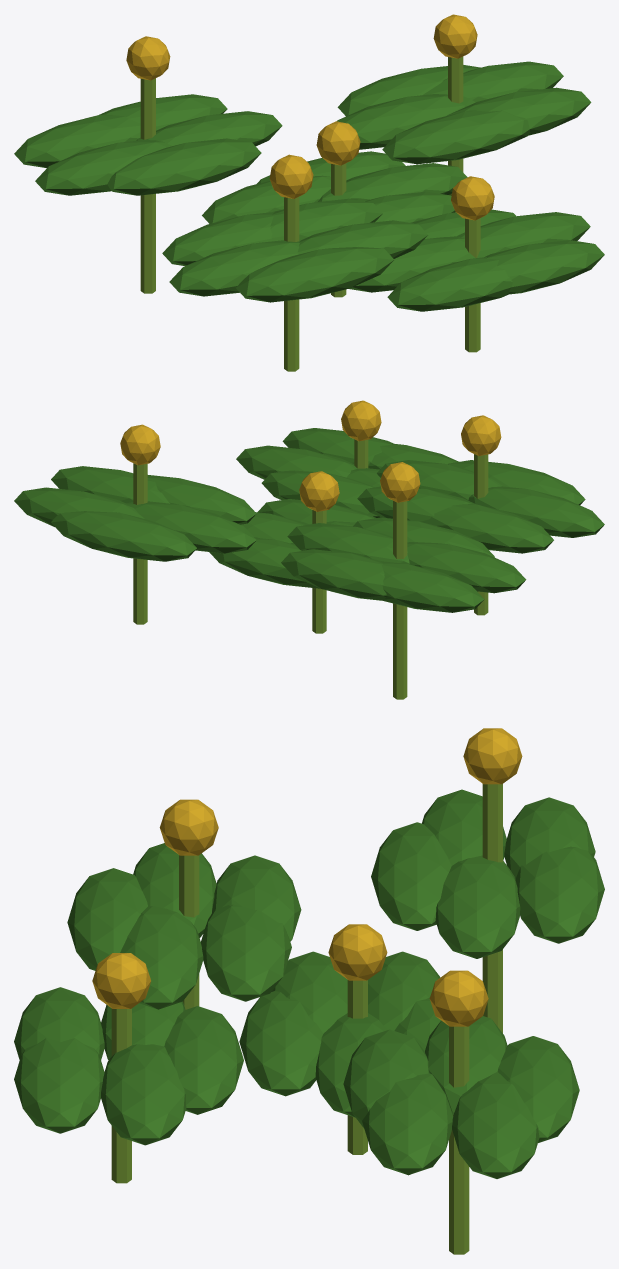
Rendered from Node_Herb.fbx.
The picture shows the model from 3 angles, top to bottom: view 1: azimuth 30°, elevation 25°; view 2: azimuth 150°, elevation 25°; view 3: azimuth 270°, elevation 25°; orthographic projection. The views are drawn at different scales.
Parts seen in each view (by area): view 1: Node_Herb; view 2: Node_Herb; view 3: Node_Herb.
Boxes of the visible parts, x1=… form: Node_Herb: x1=14, y1=14, x2=604, y2=371; Node_Herb: x1=14, y1=400, x2=604, y2=699; Node_Herb: x1=14, y1=728, x2=604, y2=1254.
Bounding box in the file's own units: 0.9565 × 0.435 × 0.7008.
